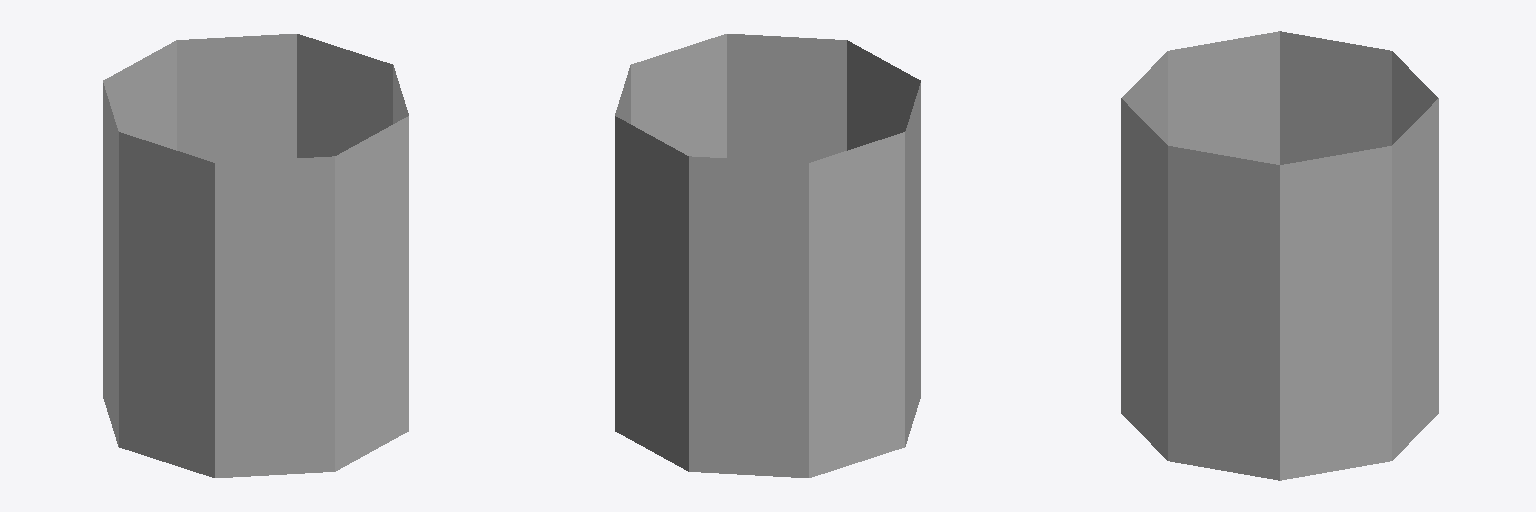
File: head2_coll_2.obj
The picture shows the model from 3 angles: view 1: azimuth 30°, elevation 25°; view 2: azimuth 150°, elevation 25°; view 3: azimuth 270°, elevation 25°; orthographic projection.
Size of the model in its own units: 3.5 by 3.84 by 3.5.